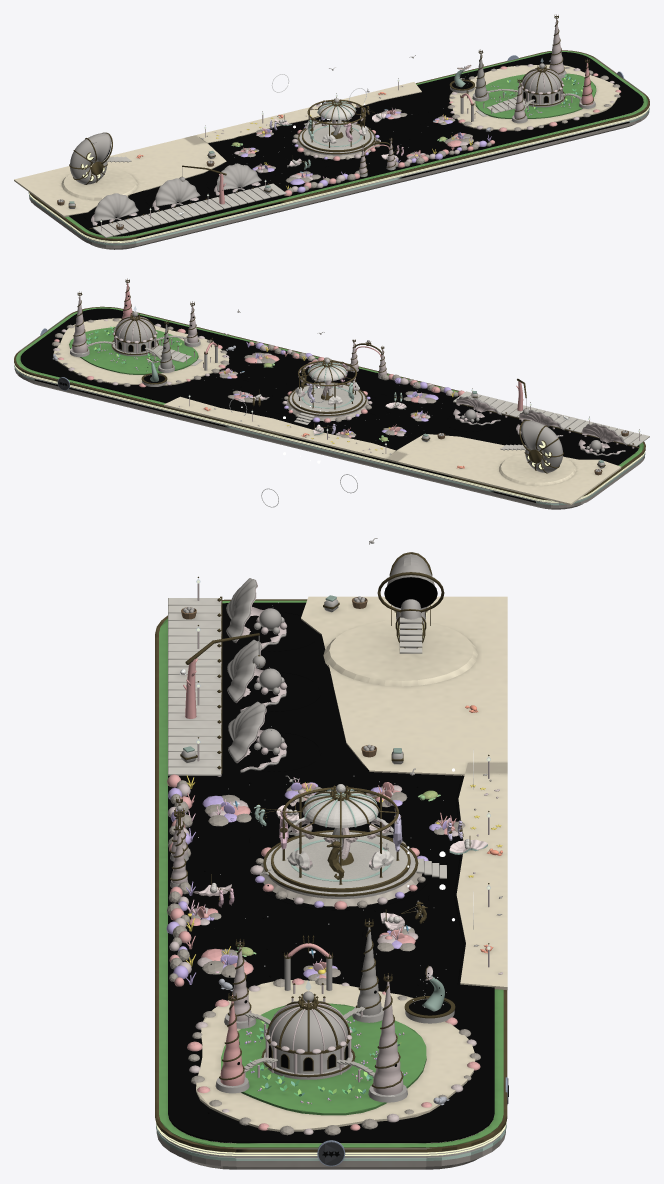
File: SM_Evo_OrbitalPort.fbx
3 views of the same model, one above another, from view 1: azimuth 30°, elevation 25°; view 2: azimuth 150°, elevation 25°; view 3: azimuth 270°, elevation 25° (orthographic). The views are drawn at different scales.
Visible parts, largest first — view 1: SMN_Evo_OrbitalPort, Emblem_Fx_OrbitalPort, SpinDish_OrbitalPortCarousel, SpinDish_OrbitalPortBoats; view 2: SMN_Evo_OrbitalPort, Emblem_Fx_OrbitalPort, SpinDish_OrbitalPortCarousel, SpinDish_OrbitalPortBoats; view 3: SMN_Evo_OrbitalPort, Emblem_Fx_OrbitalPort, SpinDish_OrbitalPortCarousel, SpinDish_OrbitalPortBoats.
Boxes of the visible parts, x1=… form: SMN_Evo_OrbitalPort: x1=14, y1=14, x2=649, y2=249; Emblem_Fx_OrbitalPort: x1=29, y1=52, x2=649, y2=242; SpinDish_OrbitalPortCarousel: x1=302, y1=98, x2=371, y2=152; SpinDish_OrbitalPortBoats: x1=269, y1=106, x2=403, y2=169; SMN_Evo_OrbitalPort: x1=14, y1=278, x2=649, y2=509; Emblem_Fx_OrbitalPort: x1=14, y1=295, x2=645, y2=502; SpinDish_OrbitalPortCarousel: x1=292, y1=359, x2=362, y2=413; SpinDish_OrbitalPortBoats: x1=248, y1=389, x2=406, y2=435; SMN_Evo_OrbitalPort: x1=155, y1=538, x2=508, y2=1169; Emblem_Fx_OrbitalPort: x1=155, y1=577, x2=508, y2=1157; SpinDish_OrbitalPortCarousel: x1=271, y1=784, x2=410, y2=892; SpinDish_OrbitalPortBoats: x1=193, y1=804, x2=487, y2=931.
Size of the model in its own units: 6.86 by 1.68 by 1.86.
